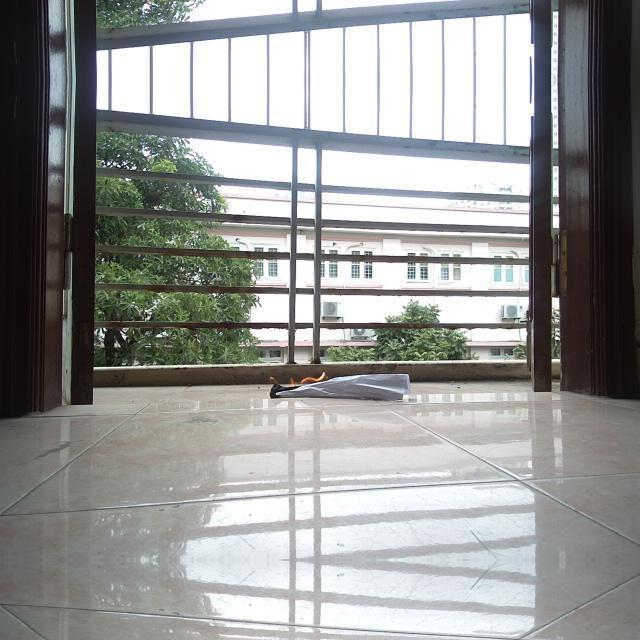smoke: (269, 370, 327, 394)
